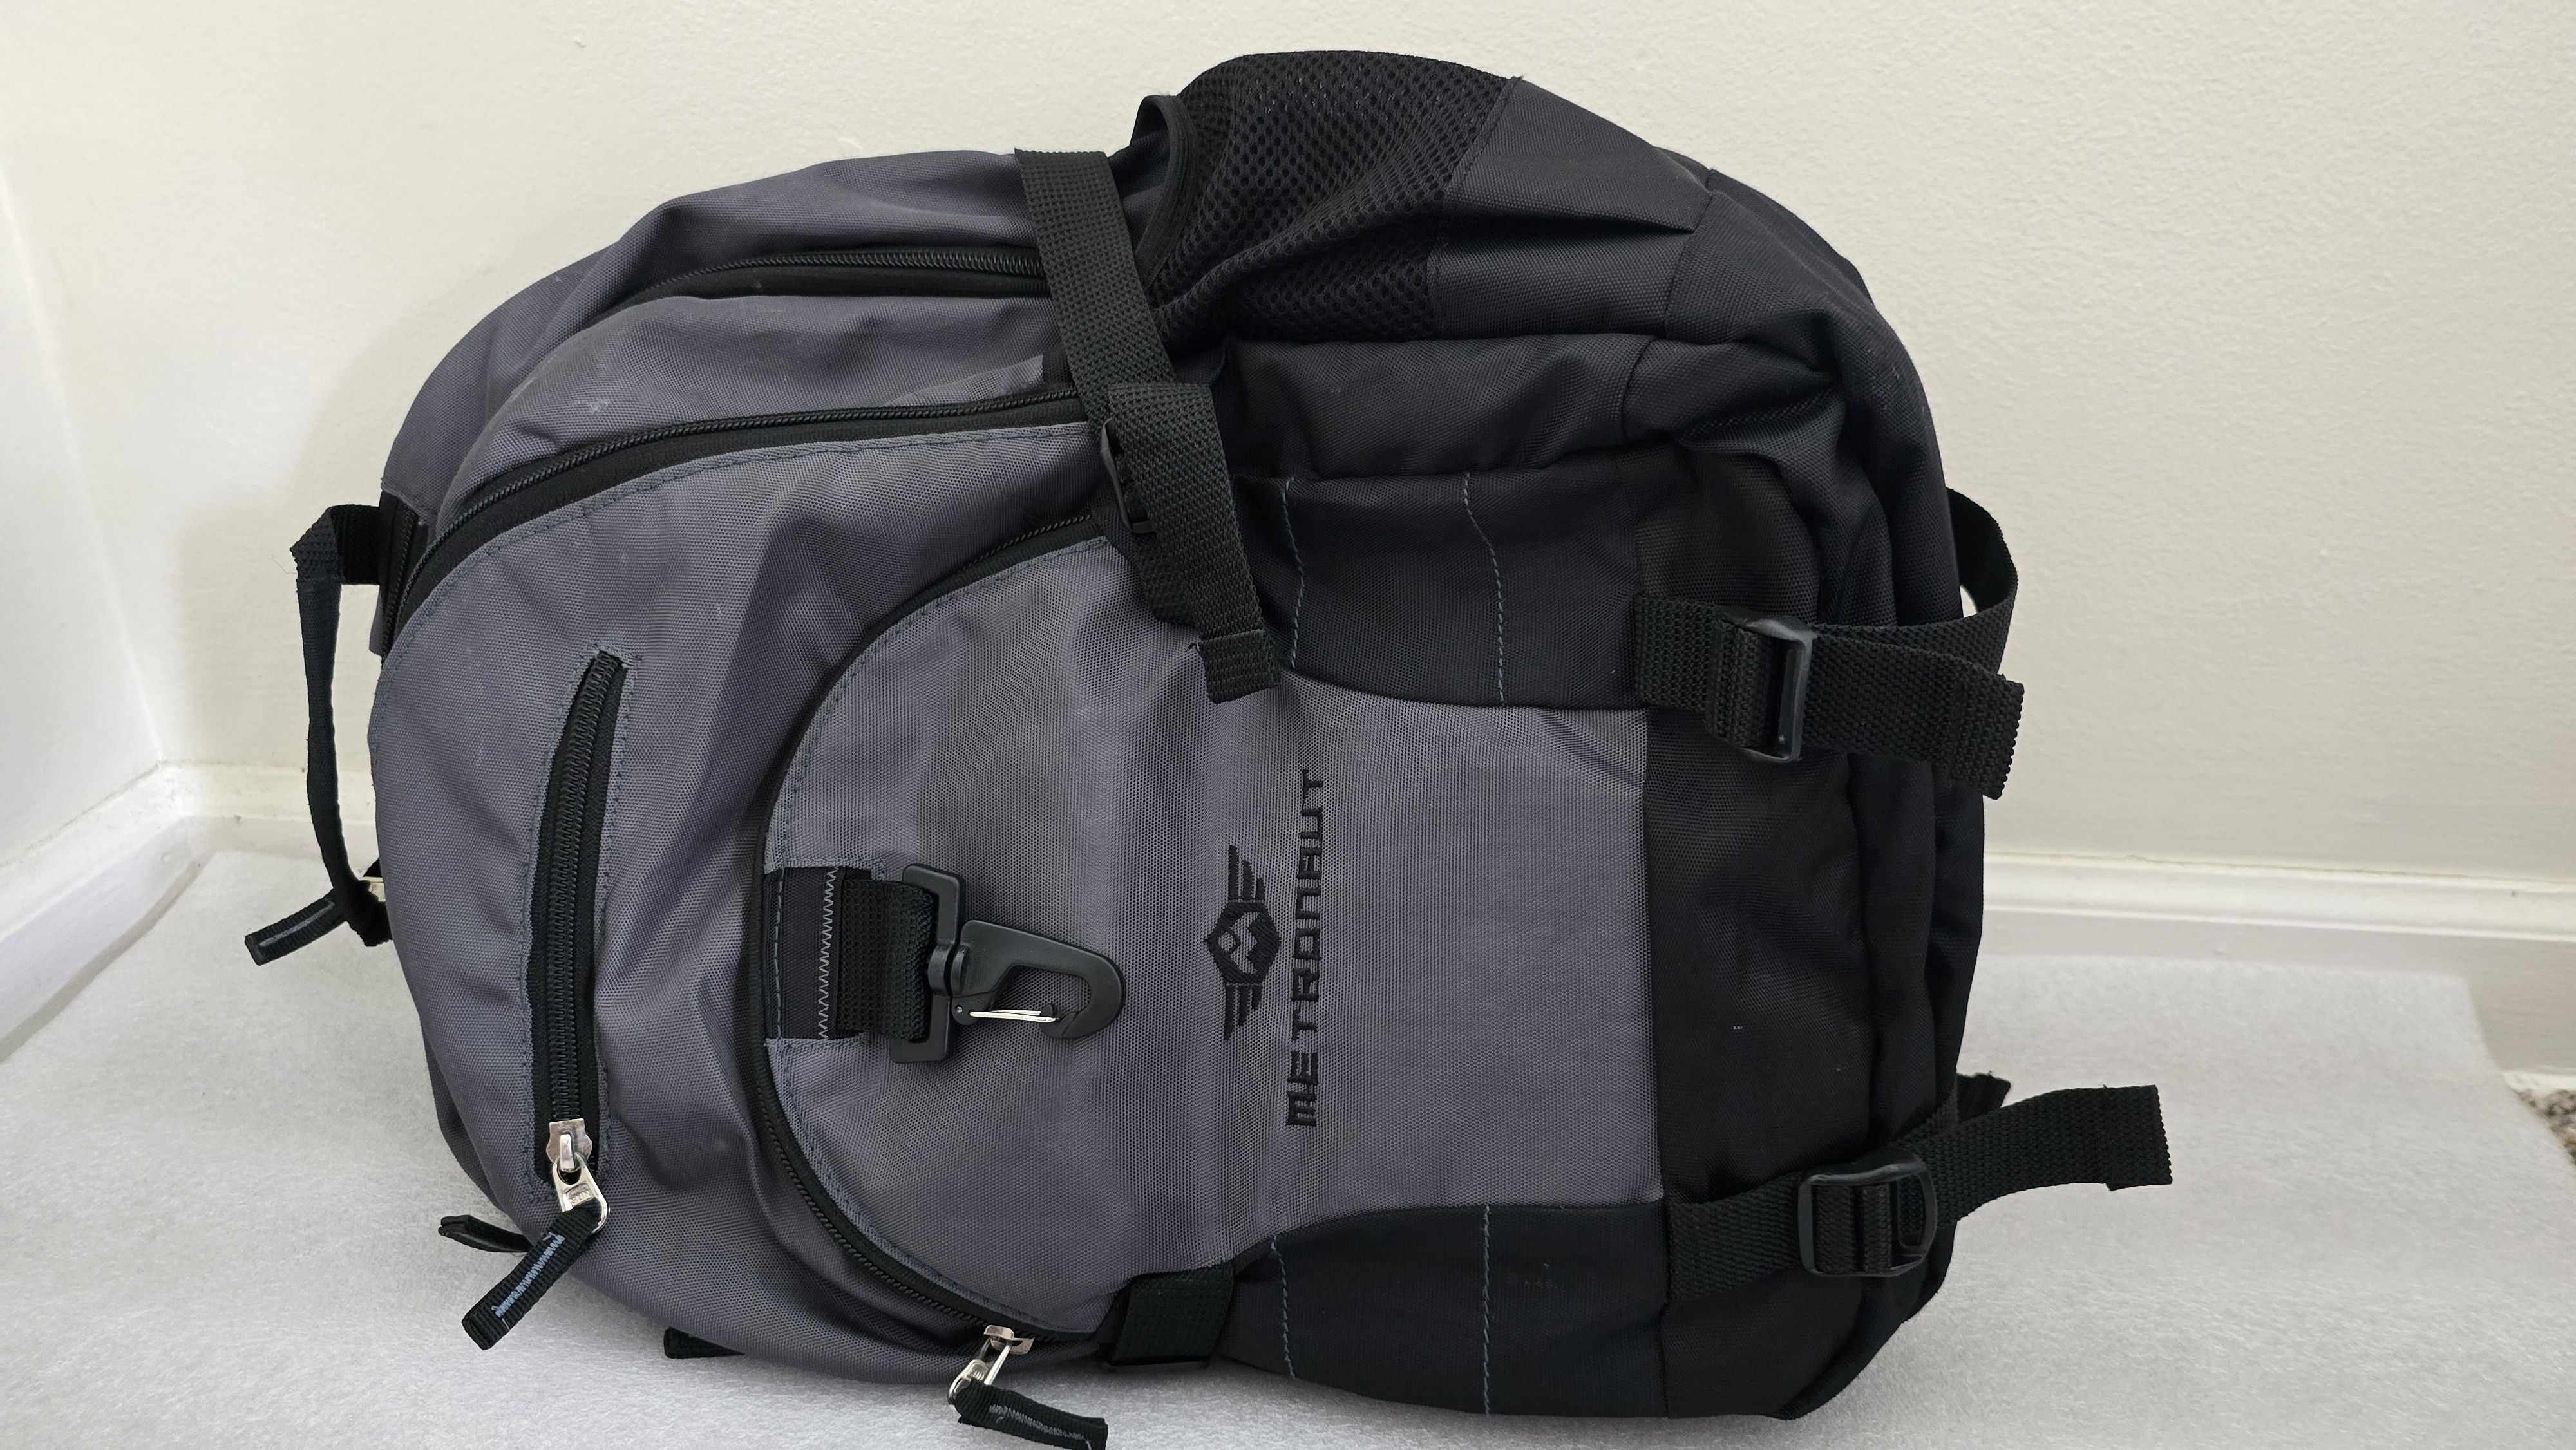bag: (258, 64, 2217, 1439)
